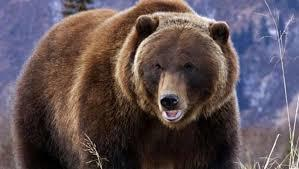bear: (11, 1, 247, 168)
